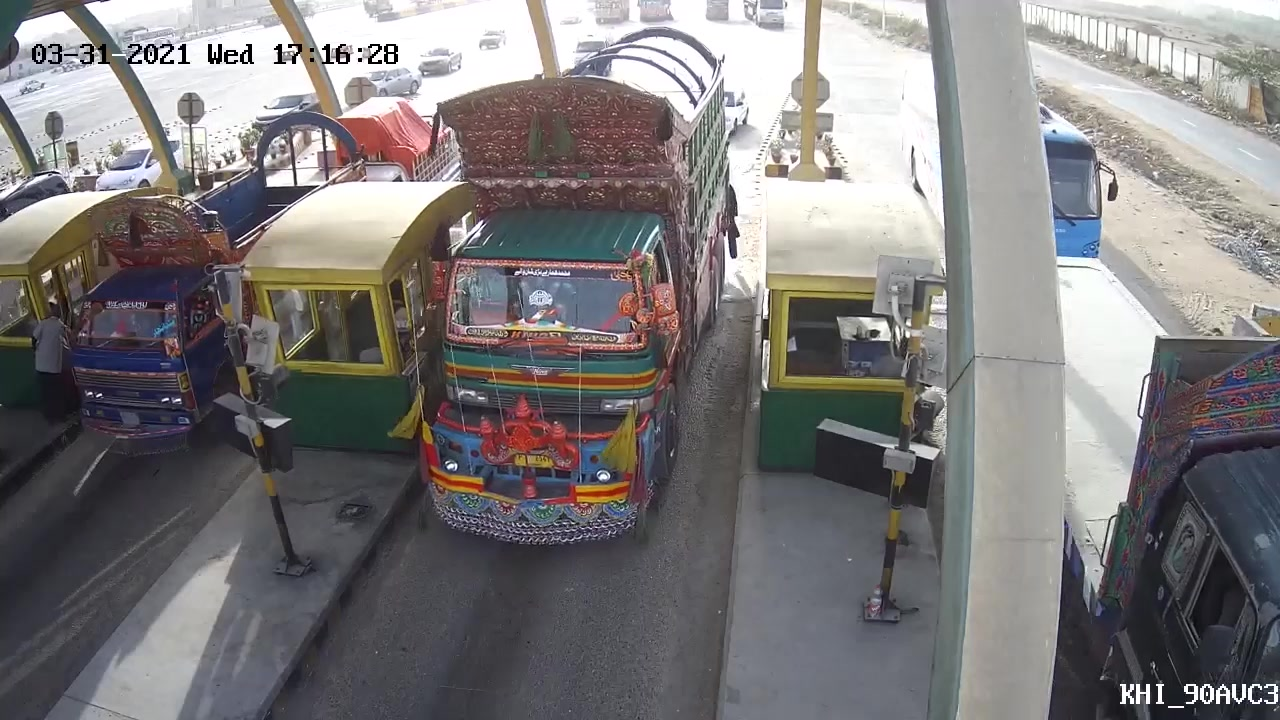F5: (409, 34, 752, 553)
